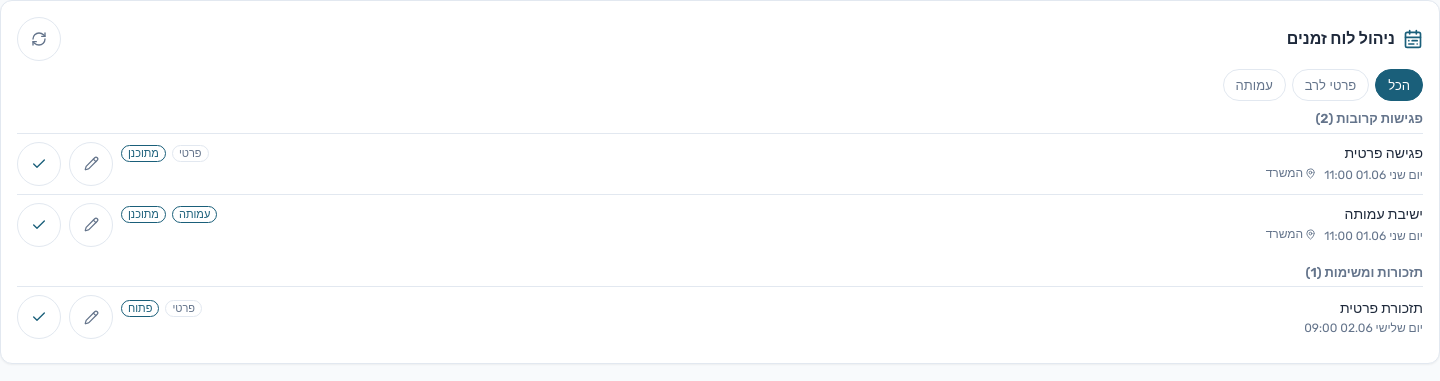
Test: RabbiScheduleManager › filters rows by scope when the עמותה filter is selected
This screenshot has width=1440, height=381.
Expected: the number of list items with test id "rabbi-sched-meeting-row" is 2, [17, 132, 1423, 194]; [17, 194, 1423, 254]
Expected: the number of list items with test id "rabbi-sched-reminder-row" is 1, [17, 286, 1423, 347]
switch to amuta: only the amuta meeting, no private rows
Click the tab with test id "rabbi-sched-scope-filter-amuta" at (1254,85), box [1223, 69, 1286, 101]
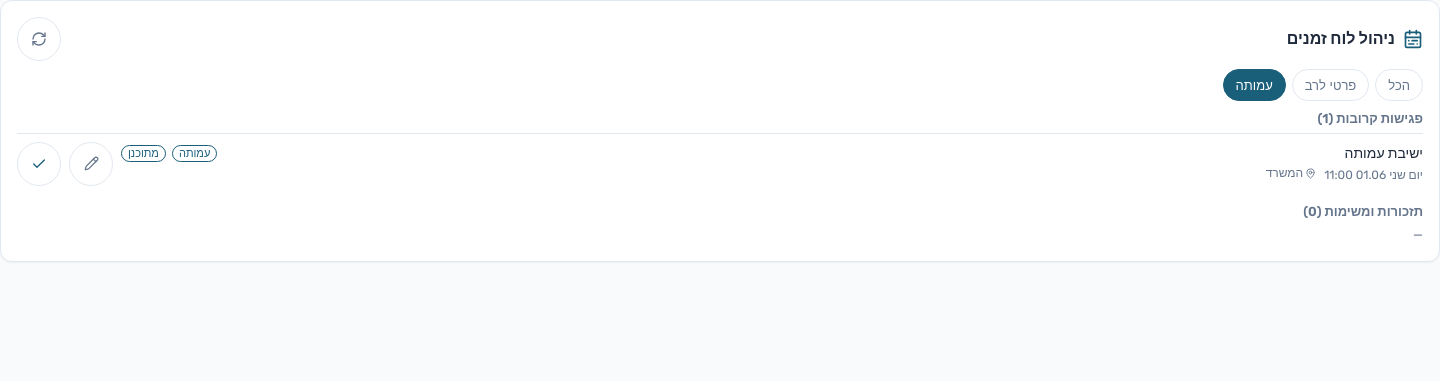
Result: the number of list items with test id "rabbi-sched-meeting-row" is 1 at [17, 132, 1423, 194]
Result: the list item with test id "rabbi-sched-reminder-row" is gone
Result: the text with test id "rabbi-sched-manager" no longer shows "פגישה פרטית"
